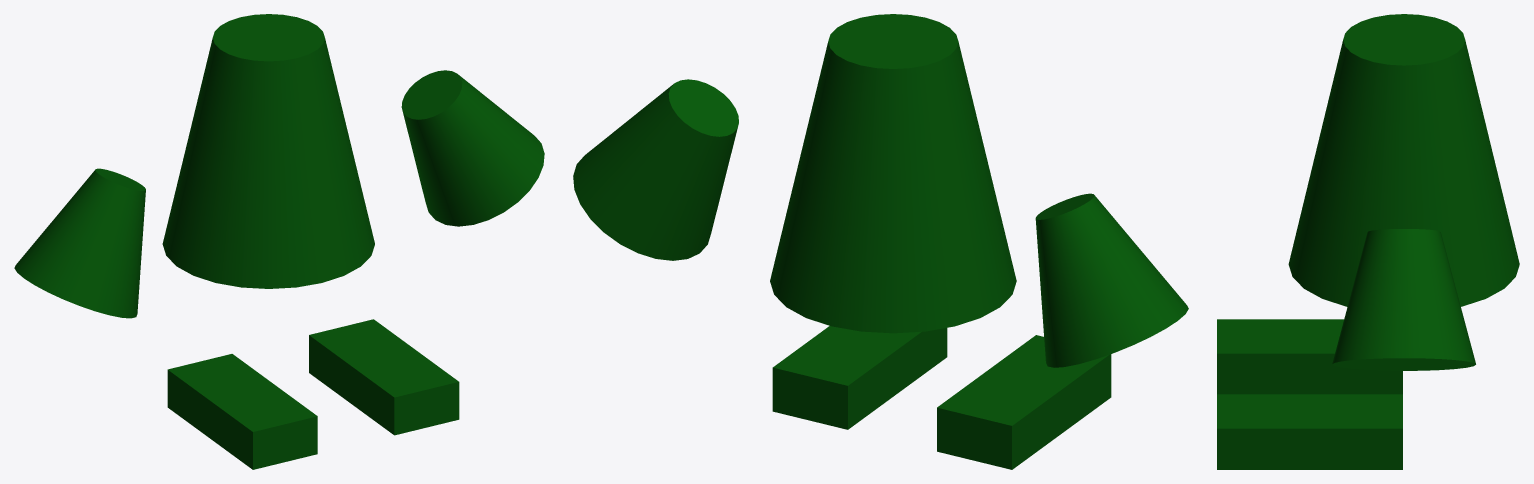
Rendered from ms_player_green.FBX.
3 views of the same model, side by side, from view 1: azimuth 30°, elevation 25°; view 2: azimuth 150°, elevation 25°; view 3: azimuth 270°, elevation 25° (orthographic). The views are drawn at different scales.
Visible parts, largest first — view 1: Cone011, Cone010, Cone012, Box014, Box013; view 2: Cone011, Cone010, Cone012, Box014, Box013; view 3: Cone011, Cone010, Box013, Box014.
Part boxes in pixels (x1,y1,x2,y2): Cone011: (162, 14, 374, 288); Cone010: (401, 70, 544, 226); Cone012: (14, 168, 145, 318); Box014: (167, 354, 317, 469); Box013: (309, 319, 459, 435); Cone011: (770, 14, 1016, 333); Cone010: (573, 79, 738, 260); Cone012: (1035, 193, 1188, 367); Box014: (937, 335, 1111, 469); Box013: (772, 326, 947, 429); Cone011: (1288, 14, 1519, 306); Cone010: (1332, 229, 1475, 370); Box013: (1217, 394, 1402, 469); Box014: (1217, 319, 1402, 394).
Size of the model in its own units: 70.91 by 45.7 by 33.45.
